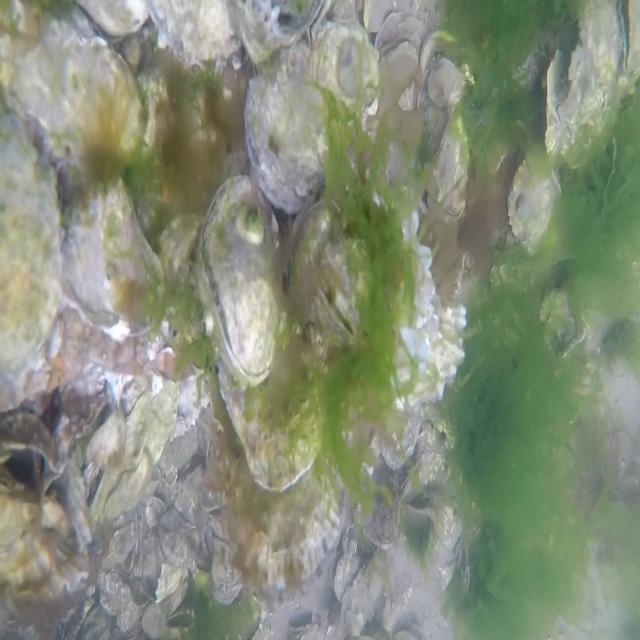Oyster-Closed: (243, 15, 380, 216), (197, 172, 285, 391), (8, 17, 144, 158), (0, 112, 59, 409), (60, 174, 164, 336), (227, 0, 331, 65), (507, 145, 560, 258), (431, 107, 472, 222), (398, 458, 428, 499)
Oyster-Indeterminate: (288, 195, 467, 412), (214, 292, 324, 494), (225, 409, 341, 594), (546, 0, 624, 155), (94, 384, 179, 516), (146, 0, 241, 69), (0, 529, 89, 597), (0, 471, 69, 549), (361, 457, 402, 548), (419, 26, 461, 114), (341, 553, 386, 631), (208, 516, 244, 608), (377, 402, 421, 472)
Oyster-Open: (0, 408, 62, 497), (376, 27, 420, 92), (618, 0, 640, 79), (328, 548, 360, 602), (405, 488, 434, 526)
